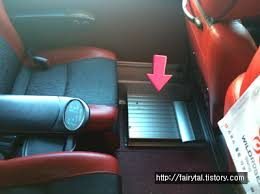seat: (4, 5, 121, 135)
